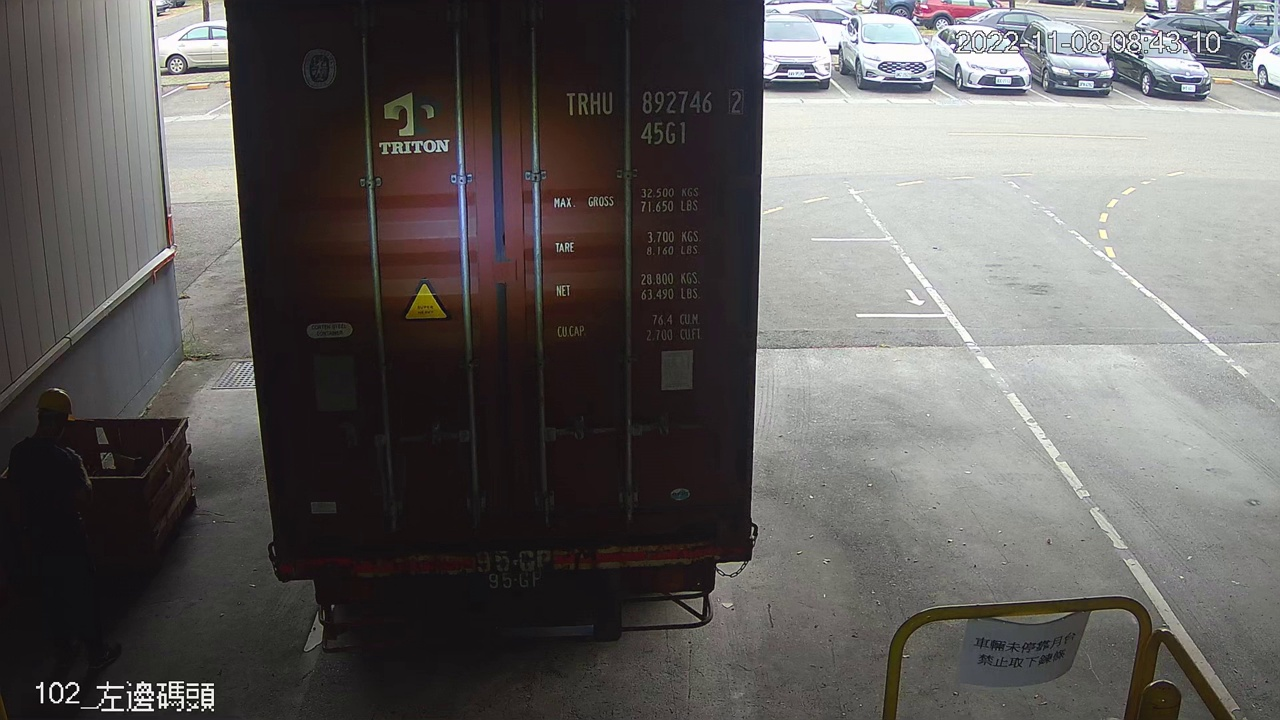container: (552, 79, 753, 153)
